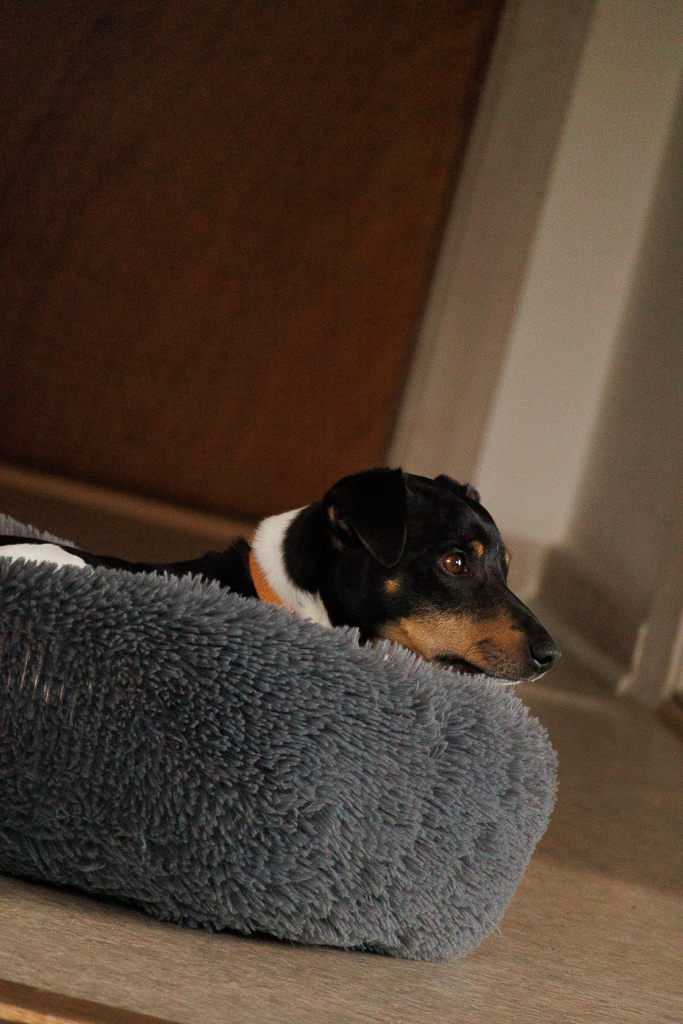Dog: (0, 447, 568, 702)
